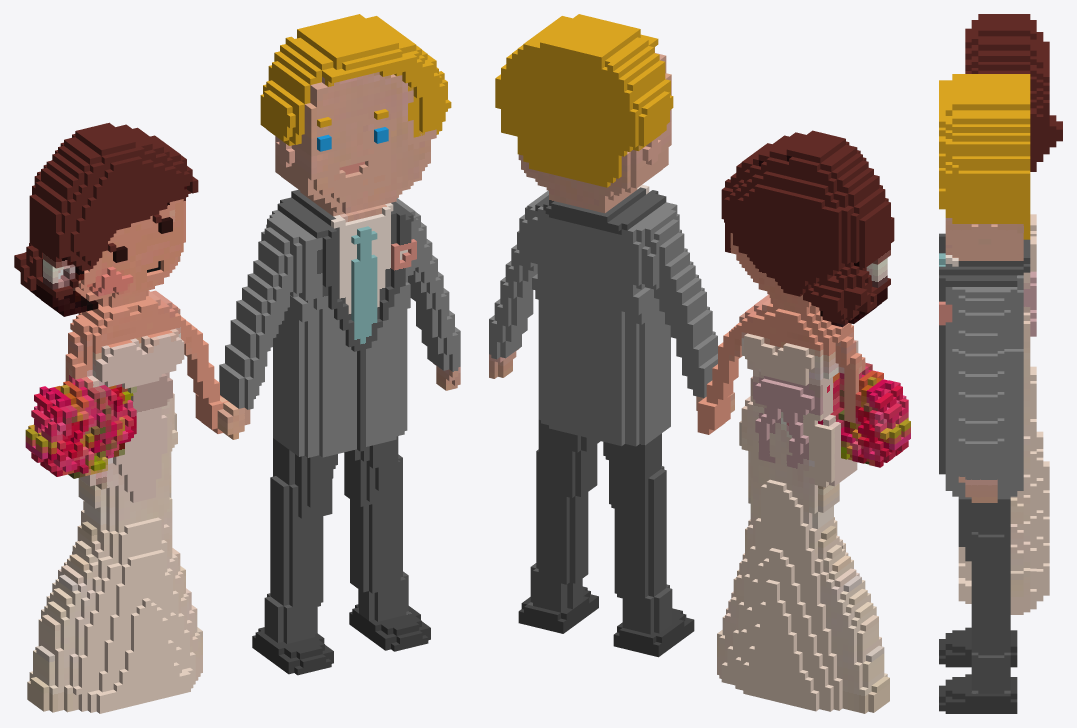
The model's file is couple1.glb.
The picture shows the model from 3 angles, left to right: view 1: azimuth 30°, elevation 25°; view 2: azimuth 150°, elevation 25°; view 3: azimuth 270°, elevation 25°; orthographic projection.
Parts seen in each view (by area): view 1: Qubicle_AtlasMaterial (×3); view 2: Qubicle_AtlasMaterial (×3); view 3: Qubicle_AtlasMaterial (×3).
Boxes of the visible parts, bbox=[...] form: Qubicle_AtlasMaterial (×3): bbox=[14, 14, 460, 713]; Qubicle_AtlasMaterial (×3): bbox=[489, 14, 910, 713]; Qubicle_AtlasMaterial (×3): bbox=[939, 14, 1062, 713].
Size of the model in its own units: 73 by 101 by 19.
1 material, 1 textured.
